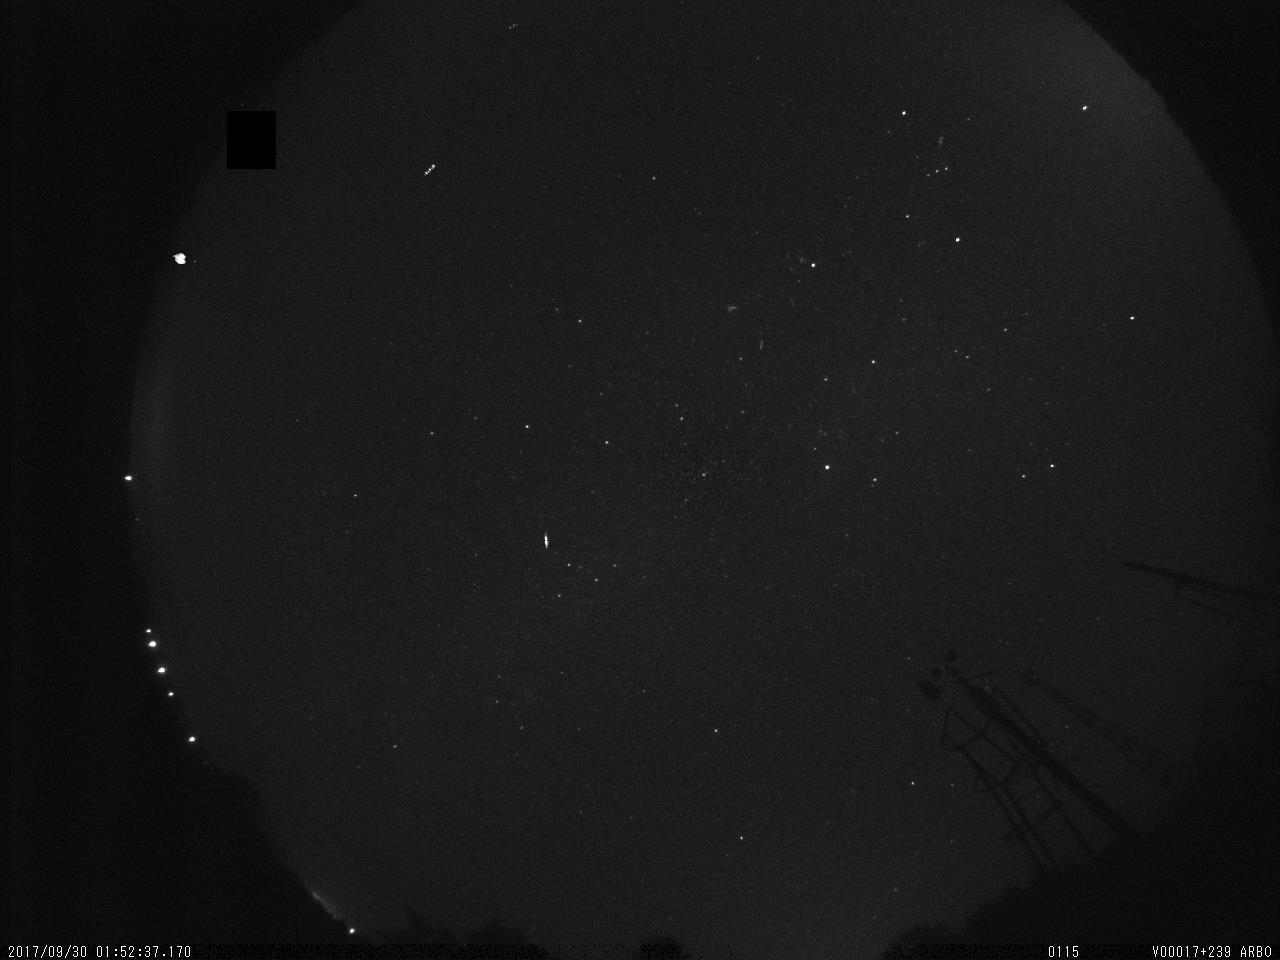TLE: (160, 238, 206, 280)
